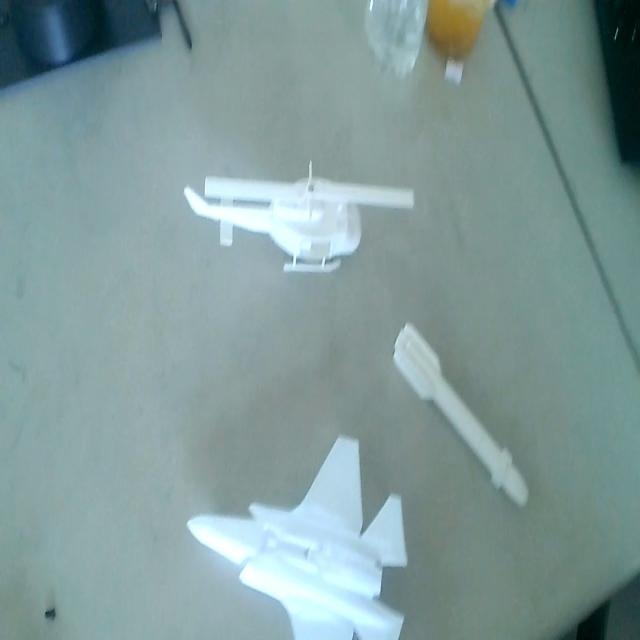Helicopter: (182, 157, 420, 281)
Jet: (182, 431, 410, 640)
Rocket: (390, 319, 532, 512)
